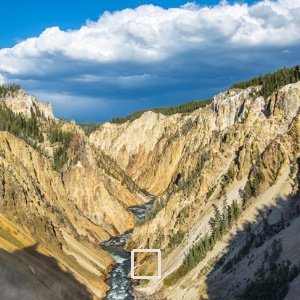square: (130, 247, 162, 280)
